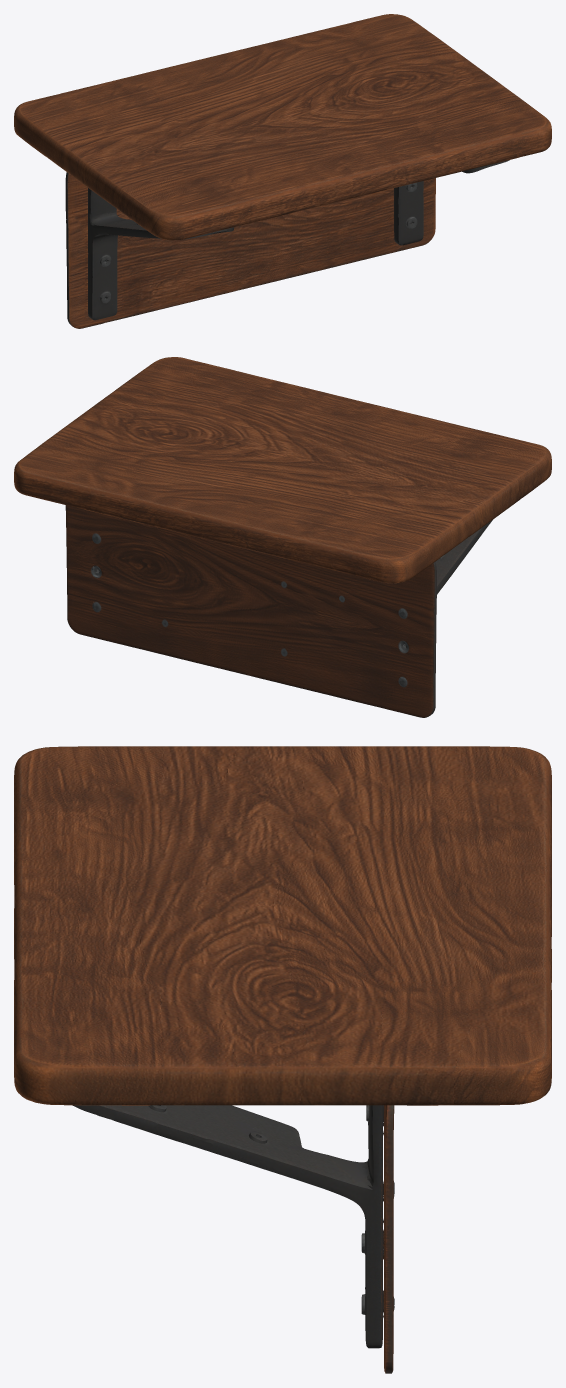
Rendered from original-shelf.glb.
The picture shows the model from 3 angles, top to bottom: view 1: azimuth 30°, elevation 25°; view 2: azimuth 150°, elevation 25°; view 3: azimuth 270°, elevation 25°; orthographic projection. The views are drawn at different scales.
Parts seen in each view (by area): view 1: Mesh_0; view 2: Mesh_0; view 3: Mesh_0.
Boxes of the visible parts, x1,y1,x2,y2 form: Mesh_0: (14, 14, 551, 328); Mesh_0: (14, 357, 551, 717); Mesh_0: (14, 746, 551, 1373).
Bounding box in the file's own units: 1.9 × 0.8902 × 1.33.
1 material, 1 textured.
